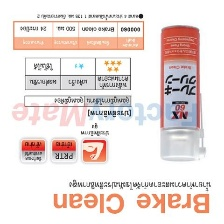aerosol_cans: (157, 22, 208, 163)
